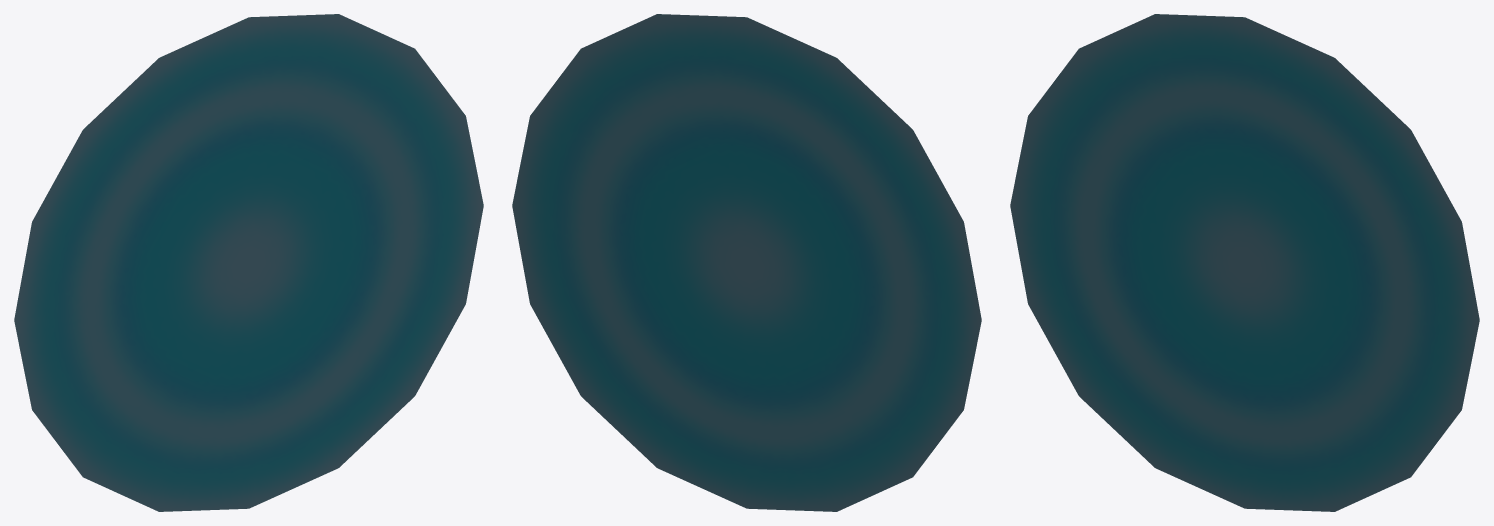
The model's file is finalBoss-marker1off.glb.
The picture shows the model from 3 angles, left to right: view 1: azimuth 30°, elevation 25°; view 2: azimuth 150°, elevation 25°; view 3: azimuth 330°, elevation 25°; orthographic projection.
Parts seen in each view (by area): view 1: finalBoss-marker1off; view 2: finalBoss-marker1off; view 3: finalBoss-marker1off.
Part boxes in pixels (x1=…): finalBoss-marker1off: x1=14, y1=14, x2=483, y2=511; finalBoss-marker1off: x1=512, y1=14, x2=981, y2=511; finalBoss-marker1off: x1=1010, y1=14, x2=1479, y2=511.
Size of the model in its own units: 0.2705 by 0.2705 by 1.19e-07.
1 material, 1 textured.
